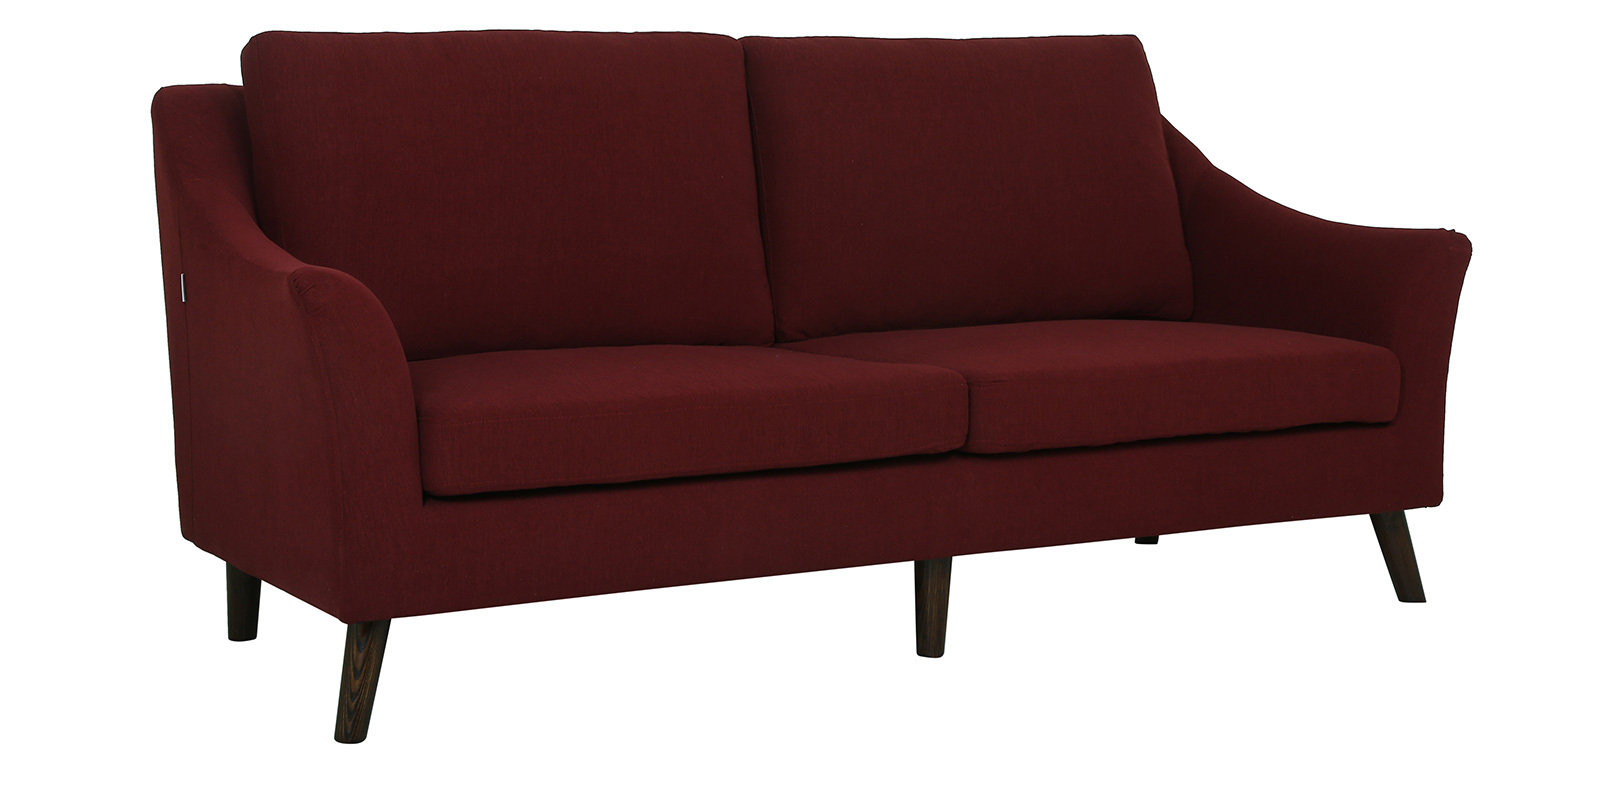Juan Three Seater Sofa in Garnet Red Colour by CasaCraft: (131, 16, 1502, 753)
